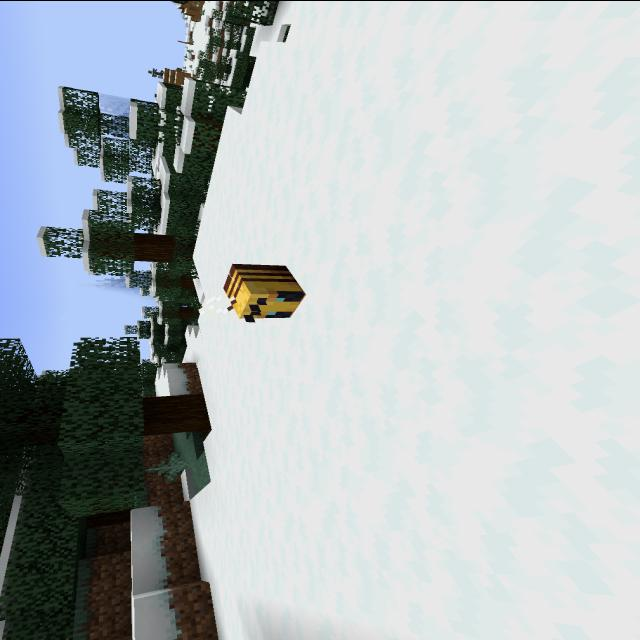bee: (183, 245, 331, 332)
